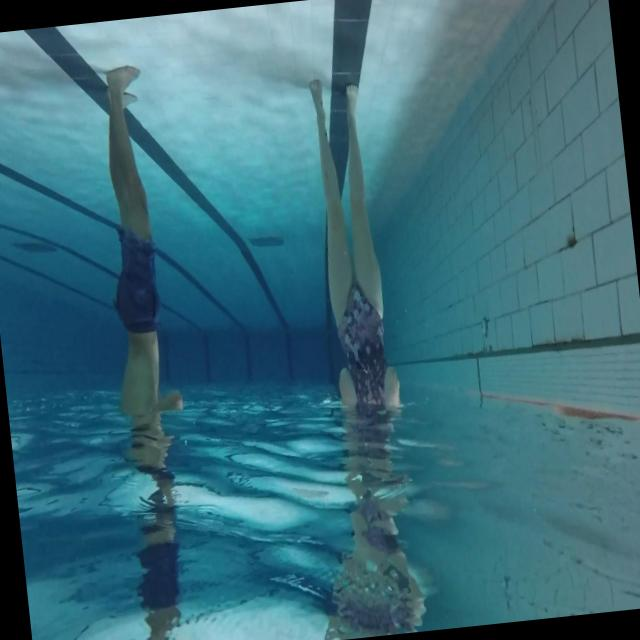human: (80, 62, 209, 640), (304, 74, 413, 506)
